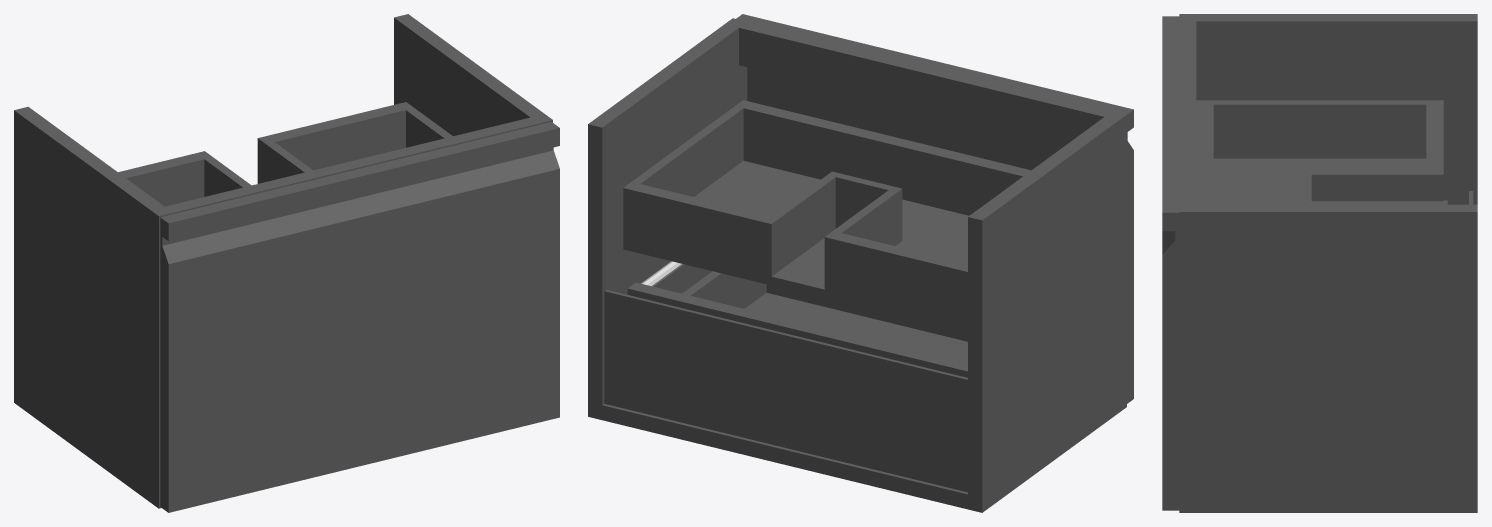
Rendered from AEC_46731.glb.
3 renders of one model, left to right at view 1: azimuth 30°, elevation 25°; view 2: azimuth 150°, elevation 25°; view 3: azimuth 270°, elevation 25°, orthographic. The views are drawn at different scales.
Visible parts, largest first — view 1: 0; view 2: 0; view 3: 0.
Boxes of the visible parts, x1,y1,x2,y2 form: 0: (14,14,559,512); 0: (588,14,1133,512); 0: (1162,14,1477,512).
Size of the model in its own units: 0.55 by 0.39 by 0.37.
1 material, 1 textured.
